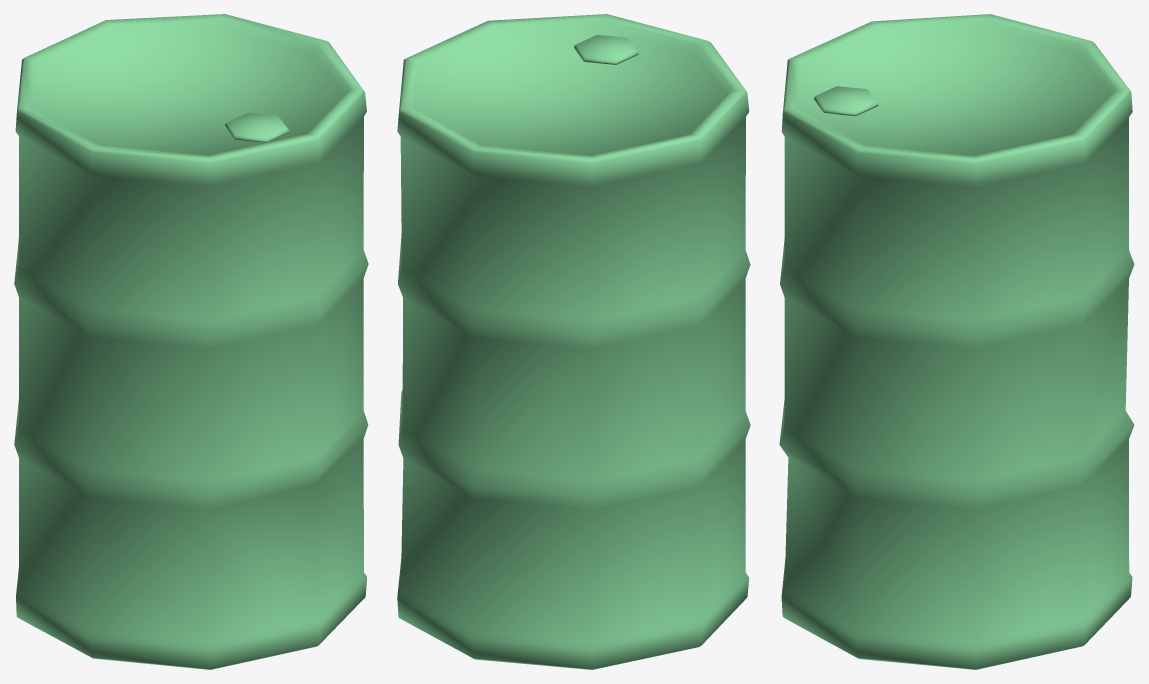
Rendered from barrel.fbx.
3 renders of one model, left to right at view 1: azimuth 30°, elevation 25°; view 2: azimuth 150°, elevation 25°; view 3: azimuth 270°, elevation 25°, orthographic.
Parts seen in each view (by area): view 1: Barrel_low, Barrel_cap_low; view 2: Barrel_low, Barrel_cap_low; view 3: Barrel_low, Barrel_cap_low.
Part boxes in pixels (x1,y1,x2,y2): Barrel_low: [14, 14, 368, 669]; Barrel_cap_low: [224, 113, 289, 142]; Barrel_low: [397, 14, 750, 669]; Barrel_cap_low: [574, 35, 638, 64]; Barrel_low: [779, 14, 1134, 669]; Barrel_cap_low: [813, 86, 878, 116].
Size of the model in its own units: 1268 by 2000 by 1262.
